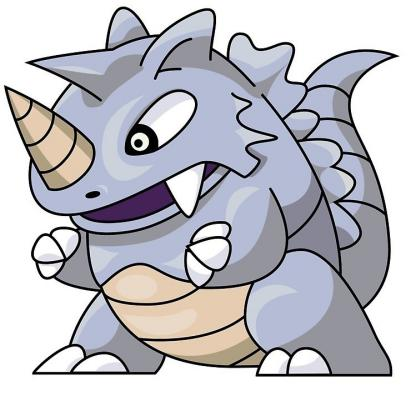Rhydon: (8, 7, 405, 383)
